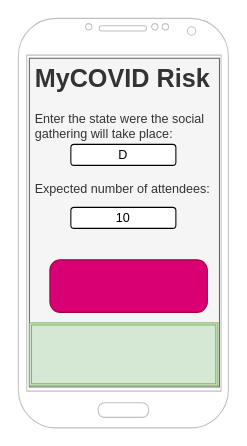
Some shapes in this 247 by 446 pixel diagram are drawn without their labels. Each missing label, with the box of its shape:
Advertisement: (28, 322, 218, 386)
Calculate: (49, 259, 207, 312)
